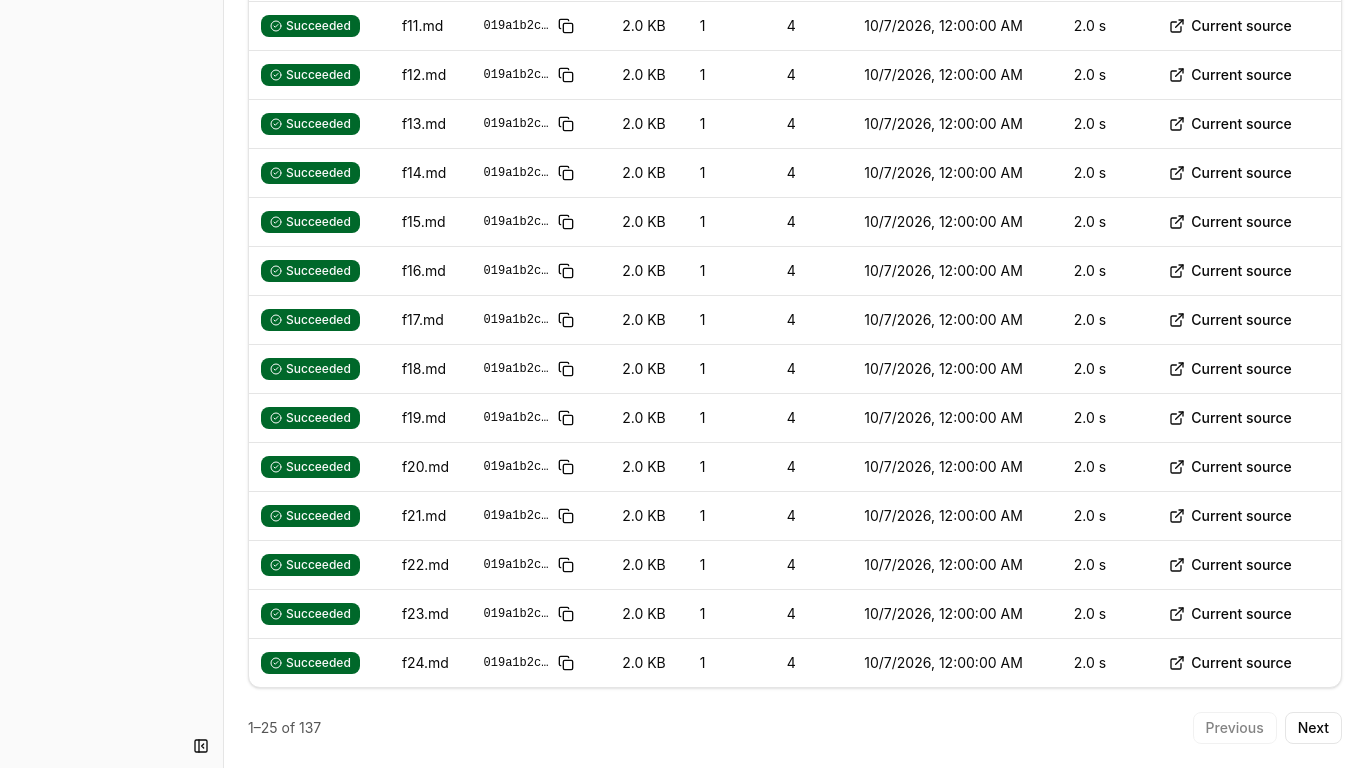
jobs page › shows the range, total and disables Previous/Next at the edges
(page scrolled)
Expected: the text "1–25 of 137" is shown, [248,718,321,738]
Expected: the button "Previous" is disabled, [1193,712,1277,744]
Click the button "Next".
click(1313, 728)  # box [1285,712,1342,744]
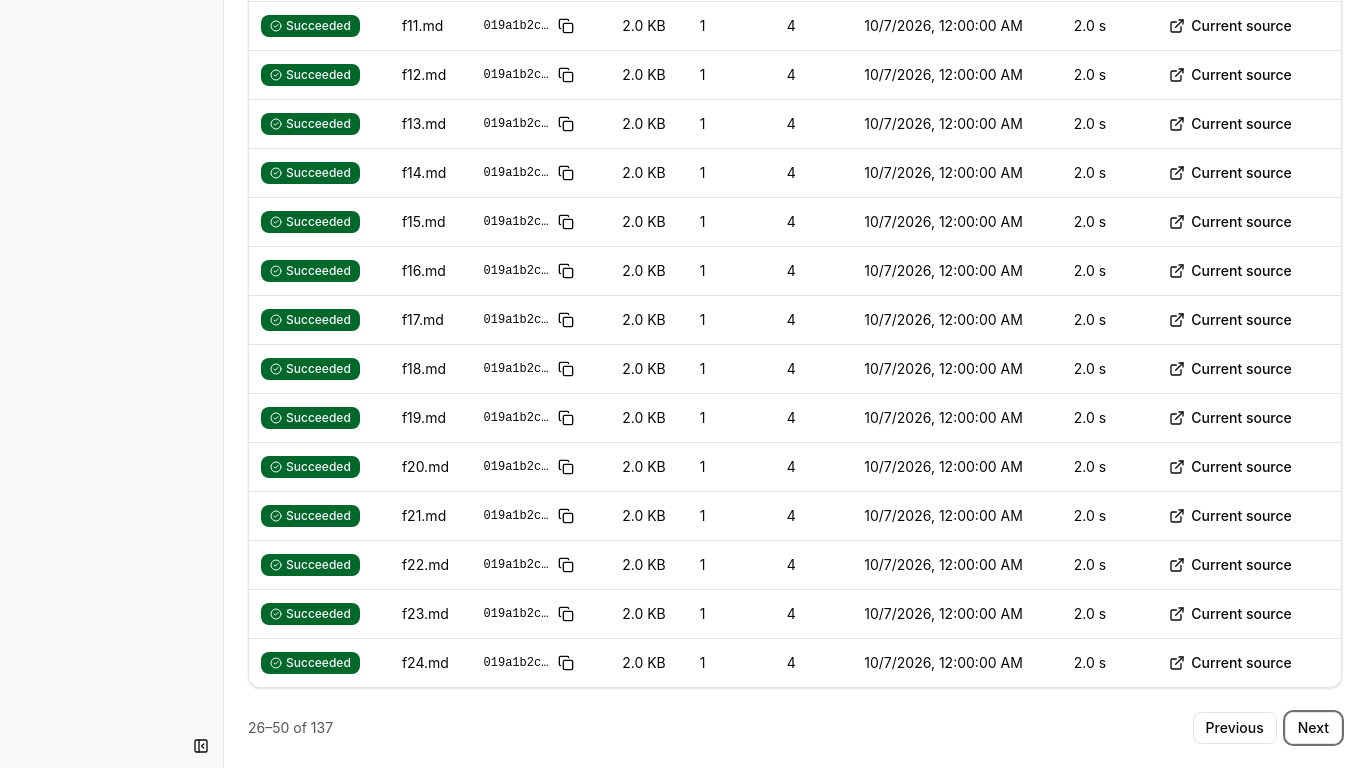
Now the text "26–50 of 137" is shown, box [248,718,333,738]
Now the button "Previous" is enabled, box [1193,712,1277,744]
